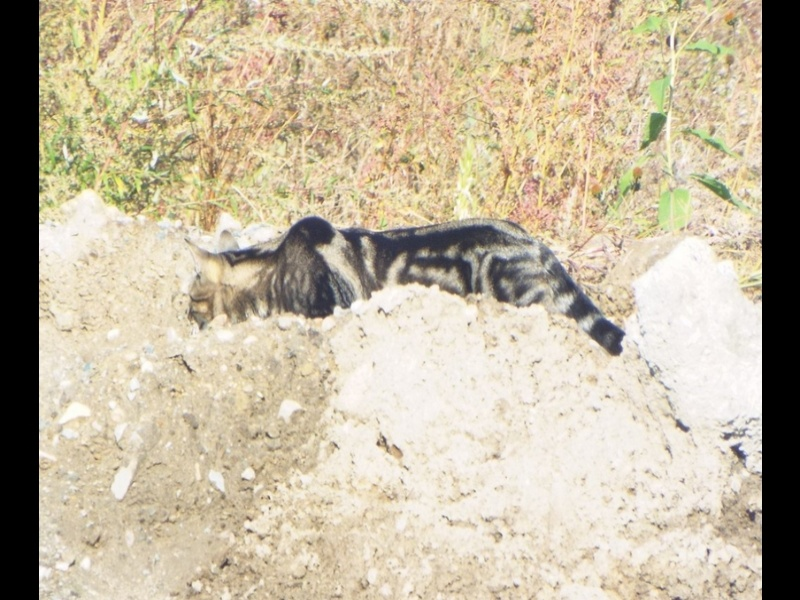cat: (182, 220, 636, 369)
